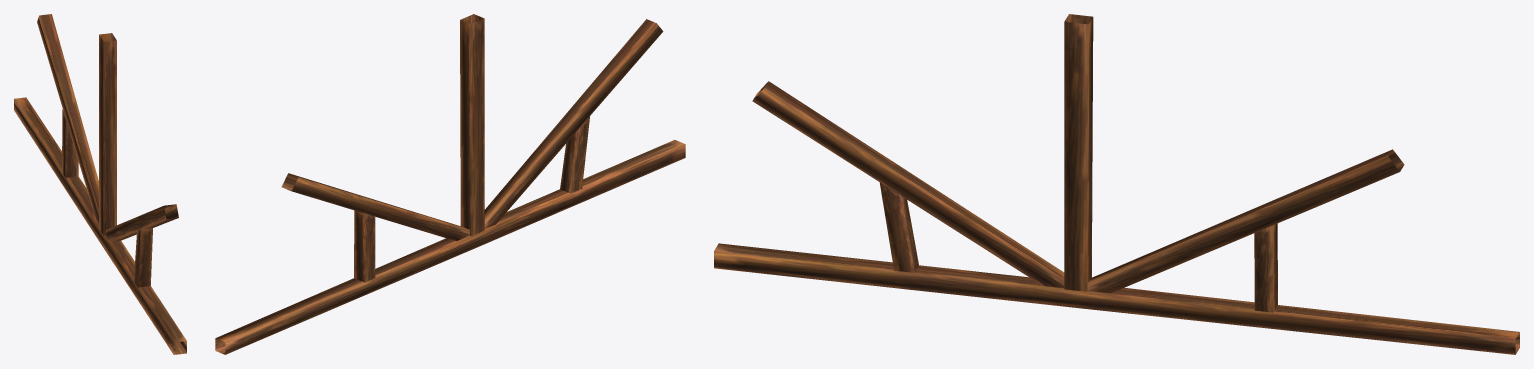
File: SWORDLIGHT20_JAILCEILBRACKET22.fbx
3 views of the same model, side by side, from view 1: azimuth 30°, elevation 25°; view 2: azimuth 150°, elevation 25°; view 3: azimuth 270°, elevation 25° (orthographic). The views are drawn at different scales.
Visible parts, largest first — view 1: SWORDLIGHT20_JAILCEILBRACKET22; view 2: SWORDLIGHT20_JAILCEILBRACKET22; view 3: SWORDLIGHT20_JAILCEILBRACKET22.
Boxes of the visible parts, x1,y1,x2,y2 form: SWORDLIGHT20_JAILCEILBRACKET22: (14, 14, 186, 354); SWORDLIGHT20_JAILCEILBRACKET22: (215, 14, 685, 354); SWORDLIGHT20_JAILCEILBRACKET22: (714, 14, 1519, 354).
Bounding box in the file's own units: 35540 × 49666 × 127345.
1 material, 1 textured.
